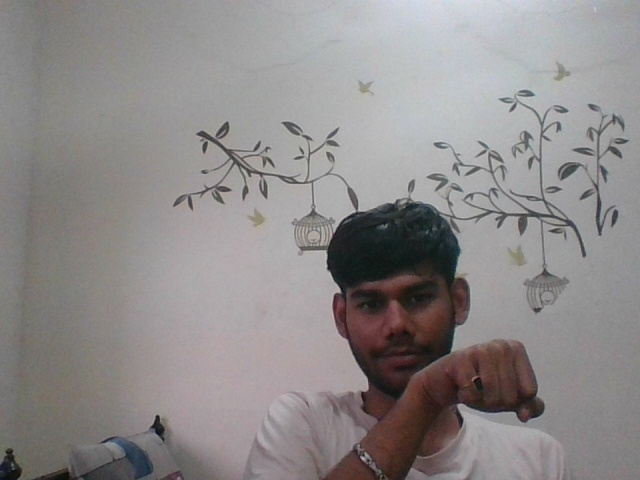Thank You: (429, 330, 556, 422)
